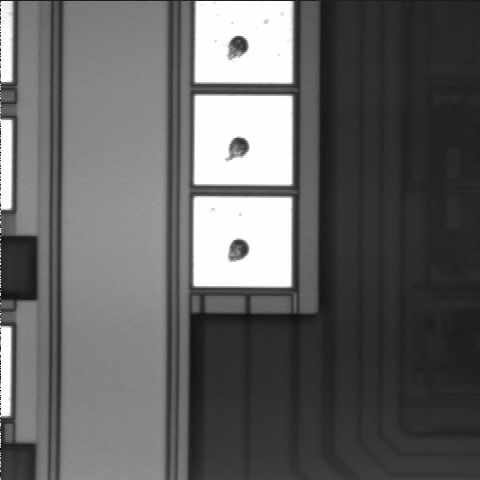pad: (194, 196, 292, 287), (194, 95, 292, 185)
